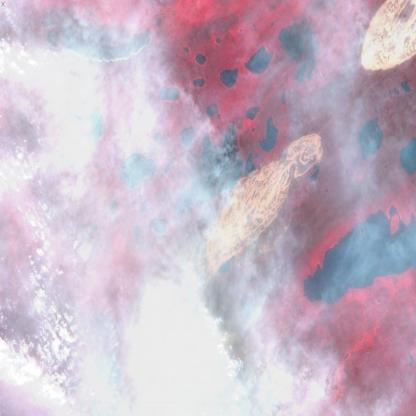fire: (178, 147, 207, 181)
